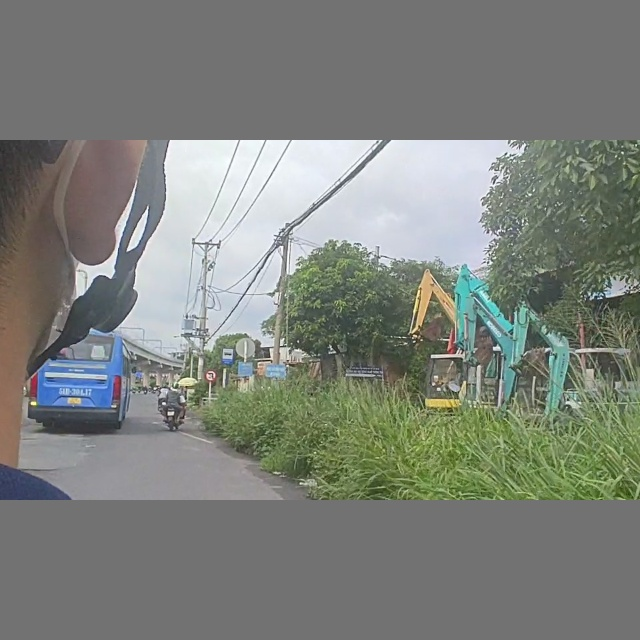I.434a: (221, 347, 235, 365)
P.123a: (204, 369, 217, 382)
